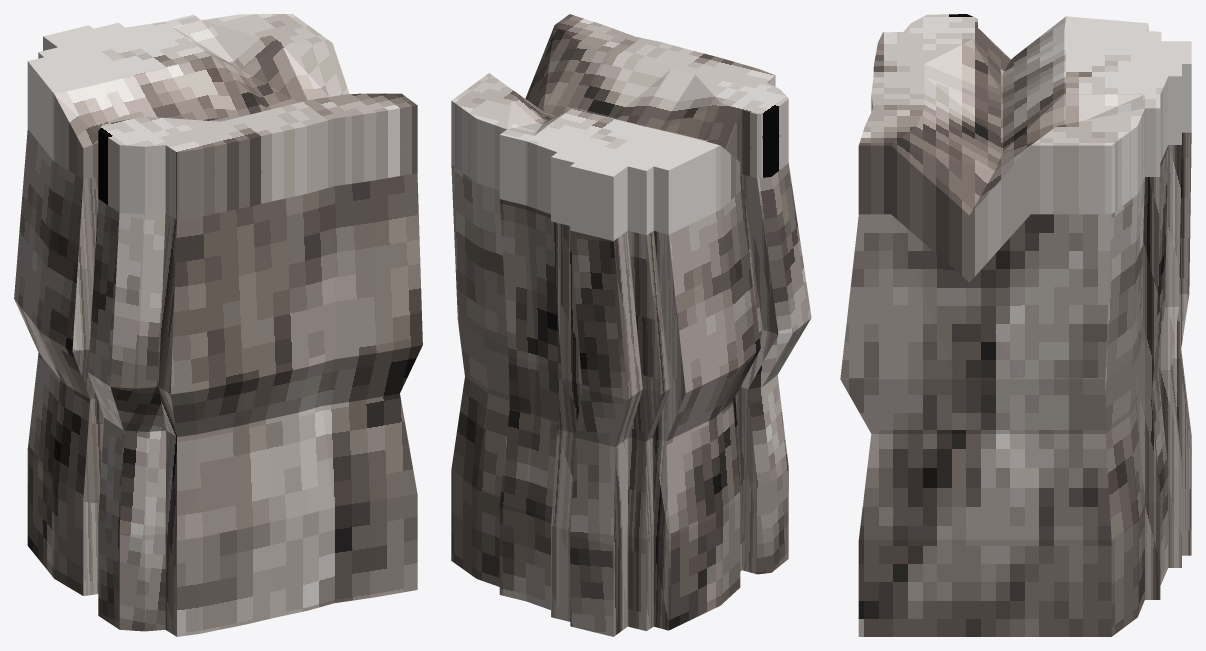
Rendered from boulder_342x0.gltf.
3 views of the same model, side by side, from view 1: azimuth 30°, elevation 25°; view 2: azimuth 150°, elevation 25°; view 3: azimuth 270°, elevation 25° (orthographic). The views are drawn at different scales.
Parts seen in each view (by area): view 1: Boulder_342x0; view 2: Boulder_342x0; view 3: Boulder_342x0.
Part boxes in pixels (x1,y1,x2,y2): Boulder_342x0: [14, 14, 422, 636]; Boulder_342x0: [451, 14, 811, 636]; Boulder_342x0: [840, 14, 1191, 636].
Size of the model in its own units: 2.6 by 4.26 by 2.76.
Materials: 1 (1 with a texture image).
